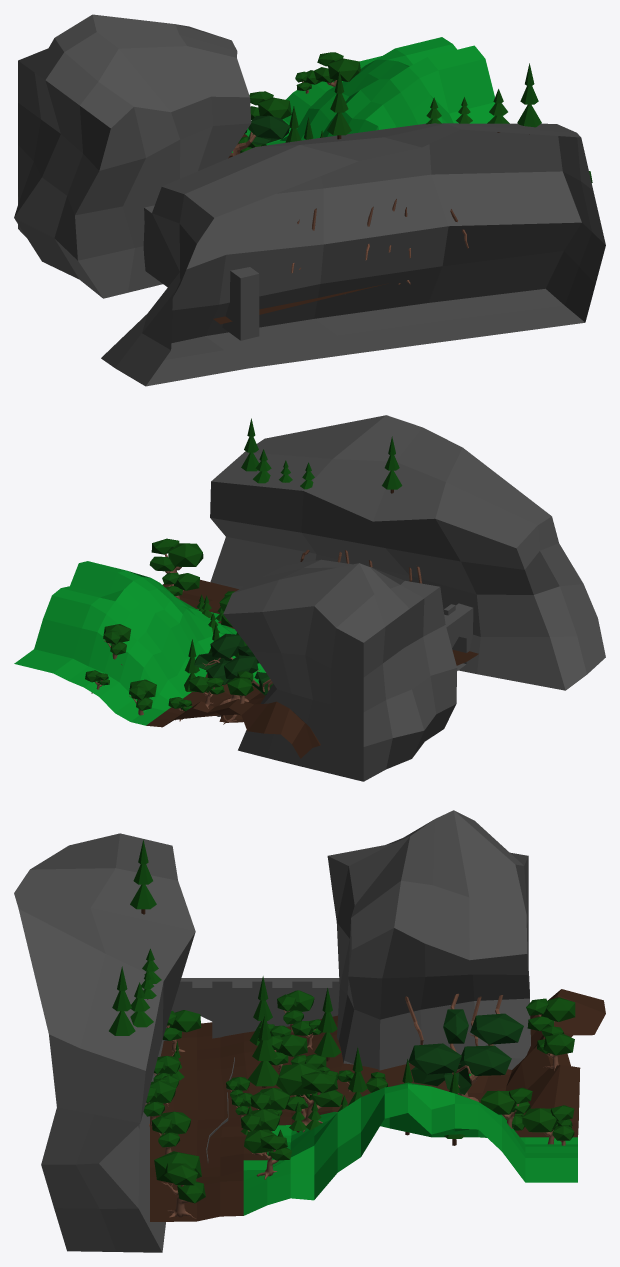
File: BlockoutDepression.glb
3 views of the same model, one above another, from view 1: azimuth 30°, elevation 25°; view 2: azimuth 150°, elevation 25°; view 3: azimuth 270°, elevation 25° (orthographic). The views are drawn at different scales.
Parts seen in each view (by area): view 1: Cliff_wide, Cliff, Ground, Wall, Tree_OakRegular.018, Tree_OakRegular.029, Tree_OakRegular.016, Cylinder.014, Cylinder.015; view 2: Cliff_wide, Cliff, Ground, Tree_OakRegular.029, Tree_OakRegular.027, Wall, Tree_OakRegular.016, Tree_OakRegular.018, Tree_OakRegular.025, Tree_OakRegular.015, Tree_OakRegular.014, Cylinder.014 (+1 smaller); view 3: Cliff_wide, Cliff, Ground, Wall, Tree_OakRegular.029, Tree_OakRegular.026, Tree_OakRegular.027, Tree_OakRegular.025, Tree_OakRegular.014, Tree_OakRegular.018, Cylinder, Tree_OakRegular.016 (+12 smaller).
Part boxes in pixels (x1,y1,x2,y2): Cliff_wide: (101,123,605,386); Cliff: (14,14,251,298); Ground: (213,37,502,324); Wall: (143,205,259,340); Tree_OakRegular.018: (314,52,360,86); Tree_OakRegular.029: (244,115,289,145); Tree_OakRegular.016: (249,91,291,119); Cylinder.014: (327,71,351,139); Cylinder.015: (517,63,541,134); Cliff_wide: (210,415,605,690); Cliff: (223,559,457,781); Ground: (14,561,478,758); Tree_OakRegular.029: (194,633,273,695); Tree_OakRegular.027: (149,538,203,586); Wall: (443,603,473,670); Tree_OakRegular.016: (129,679,156,715); Tree_OakRegular.018: (103,624,131,665); Tree_OakRegular.025: (162,572,199,599); Tree_OakRegular.015: (188,676,224,708); Tree_OakRegular.014: (227,671,253,703); Cylinder.014: (382,436,402,493); Cliff_wide: (14,833,195,1252); Cliff: (327,810,530,1070); Ground: (150,989,605,1221); Wall: (163,978,339,1040); Tree_OakRegular.029: (408,1009,523,1094); Tree_OakRegular.026: (276,1063,342,1132); Tree_OakRegular.027: (154,1151,205,1218); Tree_OakRegular.025: (244,1129,291,1179); Tree_OakRegular.014: (526,997,575,1030); Tree_OakRegular.018: (480,1087,532,1128); Cylinder: (248,1015,278,1087); Tree_OakRegular.016: (522,1105,574,1144).
Size of the model in its own units: 204 by 108 by 193.
